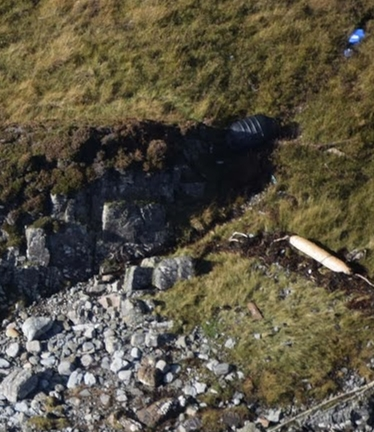straight_bar: (287, 231, 355, 279)
white_in_green: (205, 91, 298, 171), (230, 289, 279, 331), (333, 13, 374, 58)
